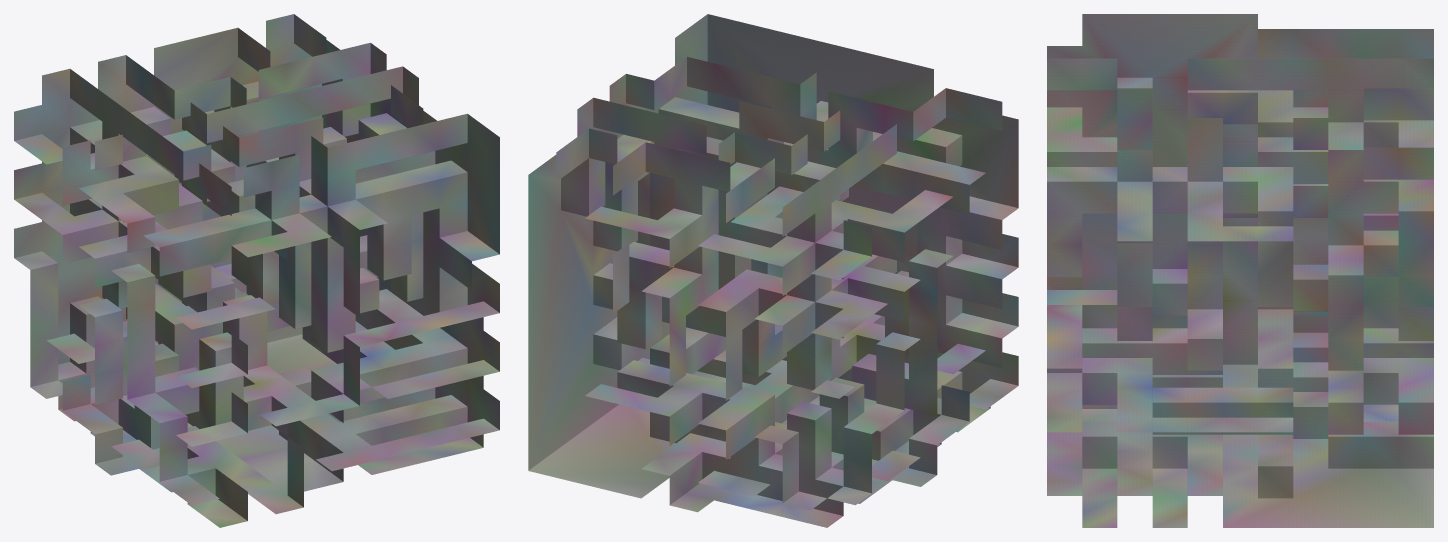
3 renders of one model, left to right at view 1: azimuth 30°, elevation 25°; view 2: azimuth 150°, elevation 25°; view 3: azimuth 270°, elevation 25°, orthographic. The views are drawn at different scales.
Parts seen in each view (by area): view 1: file1; view 2: file1; view 3: file1.
Boxes of the visible parts, left/top/right/bottom form: file1: left=14, top=14, right=499, bottom=527; file1: left=528, top=14, right=1018, bottom=527; file1: left=1047, top=14, right=1433, bottom=527.
Size of the model in its own units: 49.5 by 49.5 by 49.5.
Materials: 1 (1 with a texture image).
